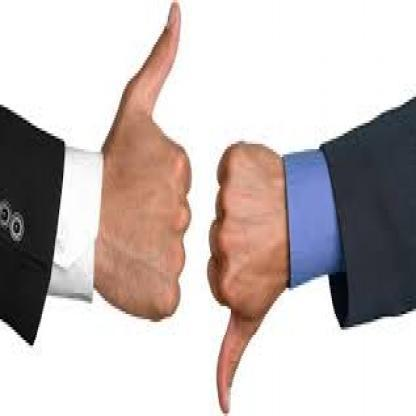thumb_down: (206, 134, 285, 413)
thumb_up: (102, 0, 194, 324)
